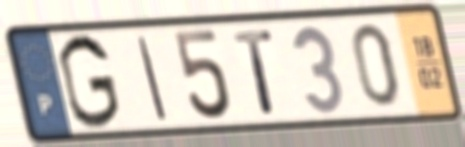0: (348, 19, 407, 112)
3: (290, 21, 347, 117)
5: (170, 26, 235, 123)
G: (55, 31, 123, 132)
I: (134, 34, 171, 123)
T: (230, 27, 278, 117)
